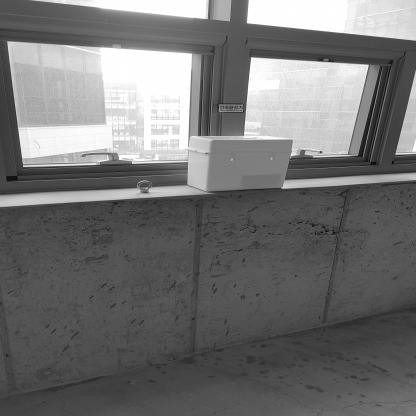DDL: (186, 135, 293, 192)
